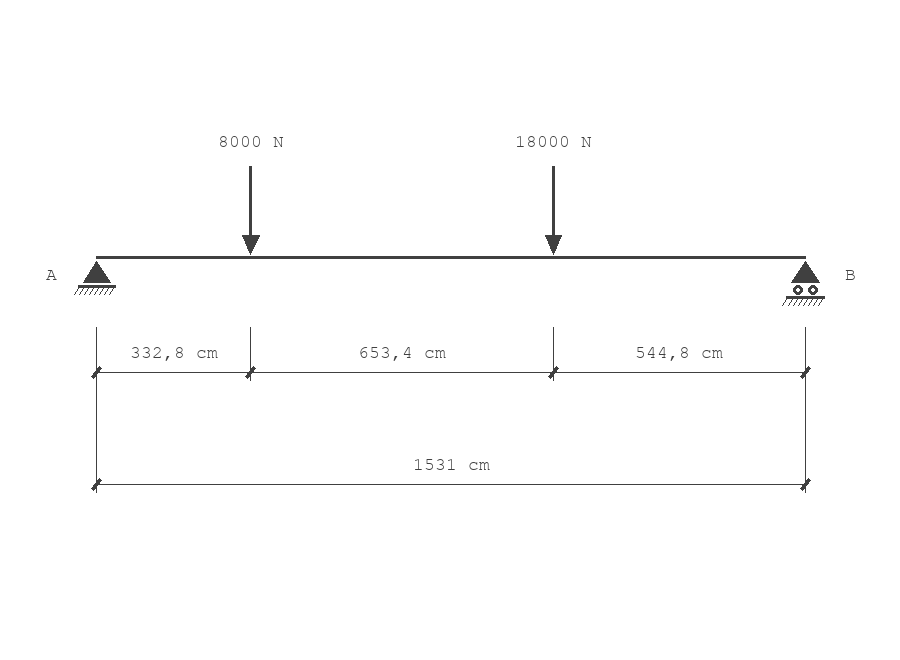pin_support: (74, 261, 116, 295)
point_load: (242, 166, 260, 255), (545, 166, 562, 255)
roller_support: (782, 261, 825, 306)
